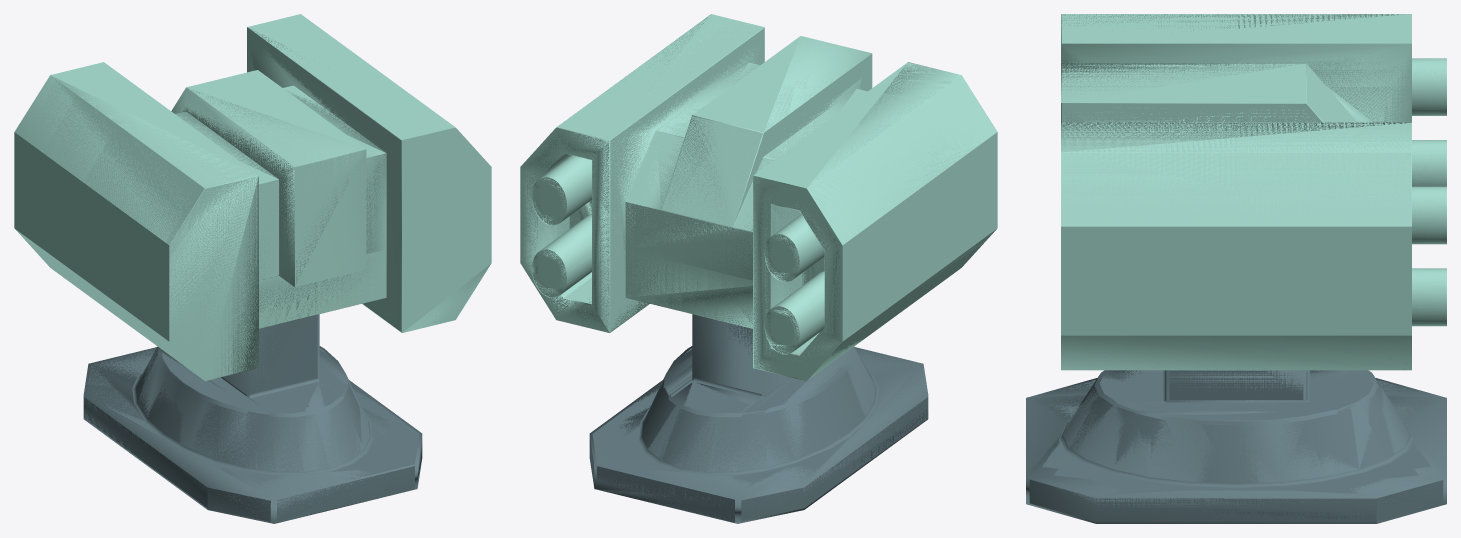
The model's file is space-kit__turret_double.glb.
3 views of the same model, side by side, from view 1: azimuth 30°, elevation 25°; view 2: azimuth 150°, elevation 25°; view 3: azimuth 270°, elevation 25° (orthographic). The views are drawn at different scales.
Parts seen in each view (by area): view 1: L0_accent, L1_accent, L0_dark, L1_dark; view 2: L0_accent, L1_accent, L0_dark, L1_dark; view 3: L0_accent, L1_accent, L0_dark, L1_dark.
Part boxes in pixels (x1,y1,x2,y2): L0_accent: [14, 14, 490, 380]; L1_accent: [14, 14, 491, 381]; L0_dark: [83, 314, 422, 522]; L1_dark: [83, 314, 422, 523]; L0_accent: [521, 14, 997, 380]; L1_accent: [520, 14, 997, 381]; L0_dark: [589, 324, 928, 522]; L1_dark: [589, 314, 928, 523]; L0_accent: [1061, 14, 1446, 370]; L1_accent: [1061, 14, 1446, 370]; L0_dark: [1029, 370, 1443, 522]; L1_dark: [1026, 370, 1446, 523].
Bounding box in the file's own units: 1 × 1 × 1.
